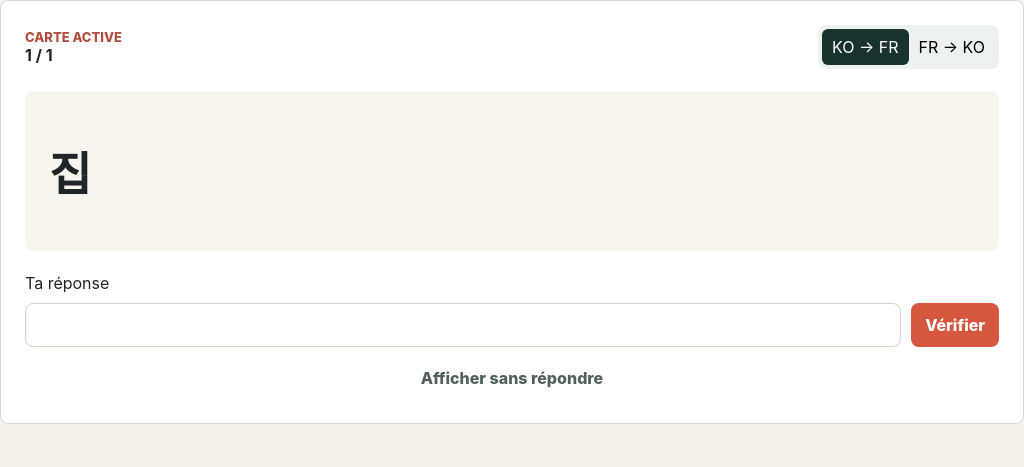
Test: ReviewPanel › explains each scheduling choice after revealing the answer
This screenshot has width=1024, height=467.
What coordinates should you click on to do the following:
click the button "Afficher sans répondre"
I would click on:
 (512, 378)
Its box is [25,357,999,399].
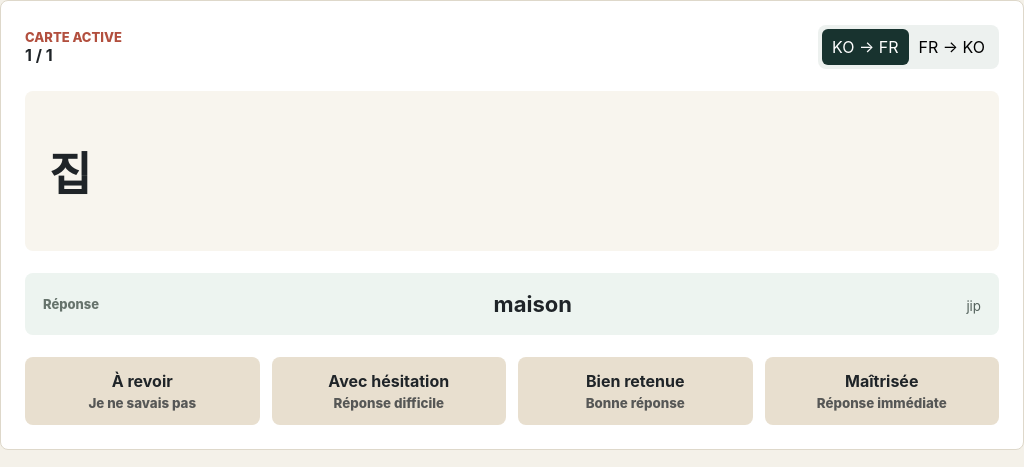
Now the button "À revoir Je ne savais pas" is shown, box [25,357,260,425]
Now the button "Avec hésitation Réponse difficile" is shown, box [272,357,506,425]
Now the button "Bien retenue Bonne réponse" is shown, box [518,357,752,425]
